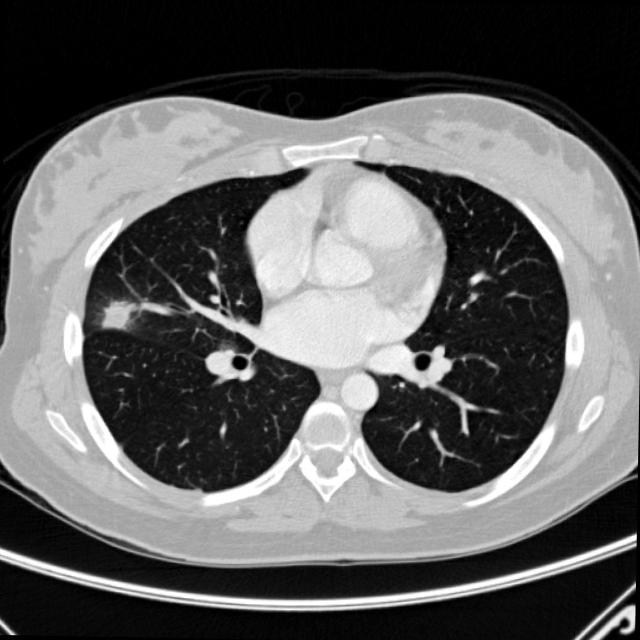nodule: (84, 280, 150, 346)
